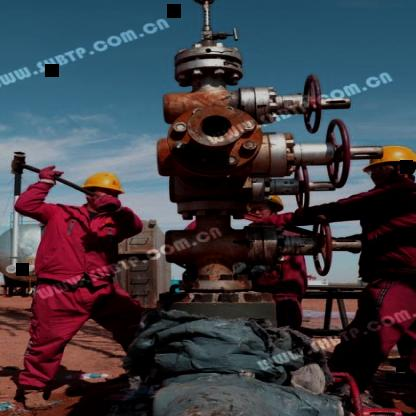helmet: (366, 141, 416, 188), (79, 169, 126, 211), (244, 190, 284, 223)
